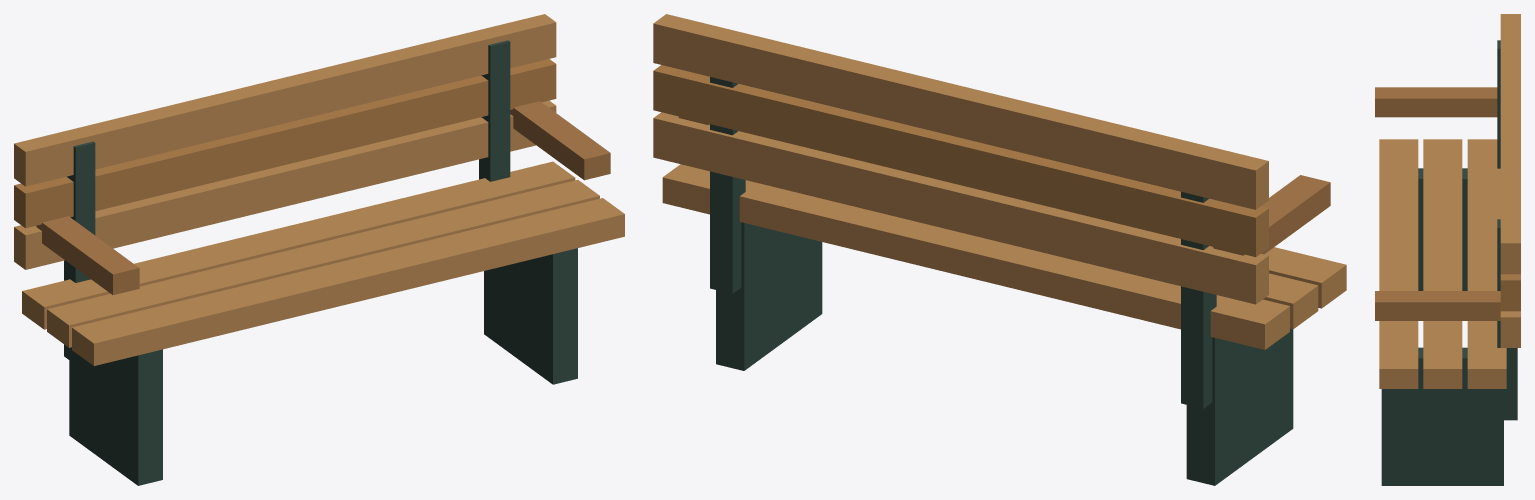
File: bench.glb
3 renders of one model, left to right at view 1: azimuth 30°, elevation 25°; view 2: azimuth 150°, elevation 25°; view 3: azimuth 270°, elevation 25°, orthographic. The views are drawn at different scales.
Parts seen in each view (by area): view 1: bench; view 2: bench; view 3: bench.
Boxes of the visible parts, box(x1,y1,x2,y2) form: bench: box(14, 14, 624, 485); bench: box(653, 14, 1346, 485); bench: box(1375, 14, 1520, 485).
Size of the model in its own units: 3.2 by 1.7 by 0.86.
